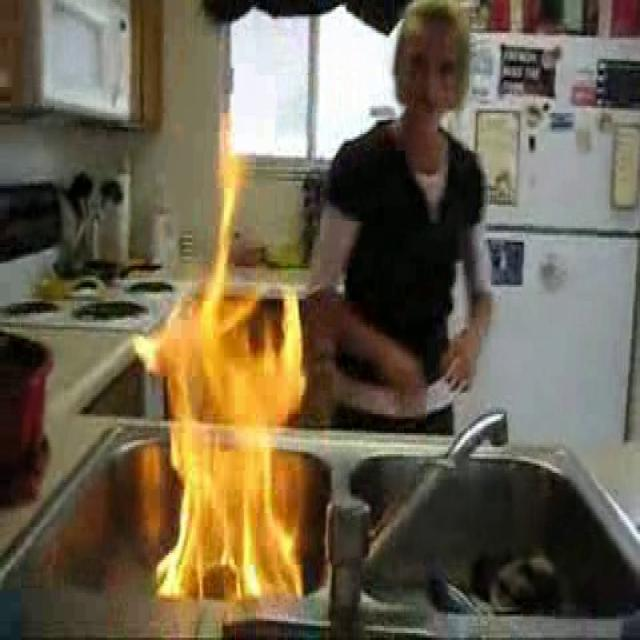Fire: (152, 193, 302, 613)
